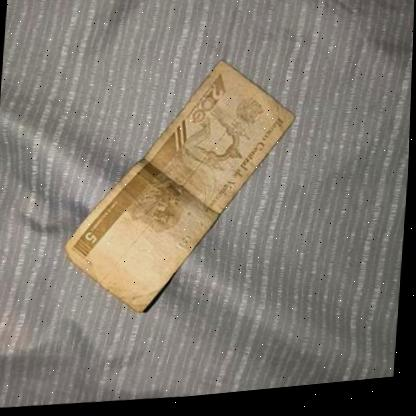five-back-vef: (60, 53, 301, 329)
